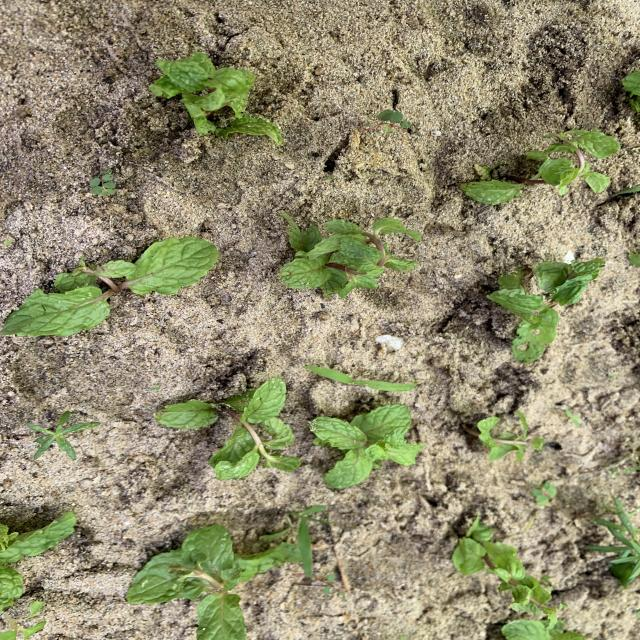crop: (4, 239, 218, 335), (126, 525, 301, 640), (156, 378, 299, 479), (453, 516, 564, 638), (150, 52, 283, 143), (488, 259, 603, 361), (461, 129, 619, 203), (280, 216, 420, 296), (311, 405, 423, 487), (1, 513, 75, 611), (477, 411, 543, 459), (622, 71, 639, 112)
weed: (592, 502, 639, 585), (28, 411, 98, 459), (305, 366, 415, 390), (296, 505, 325, 580), (1, 615, 46, 639), (376, 110, 411, 132), (90, 170, 115, 195), (532, 482, 556, 504), (319, 573, 335, 595), (616, 185, 639, 194), (566, 410, 579, 425), (4, 238, 14, 245), (151, 386, 159, 391)
